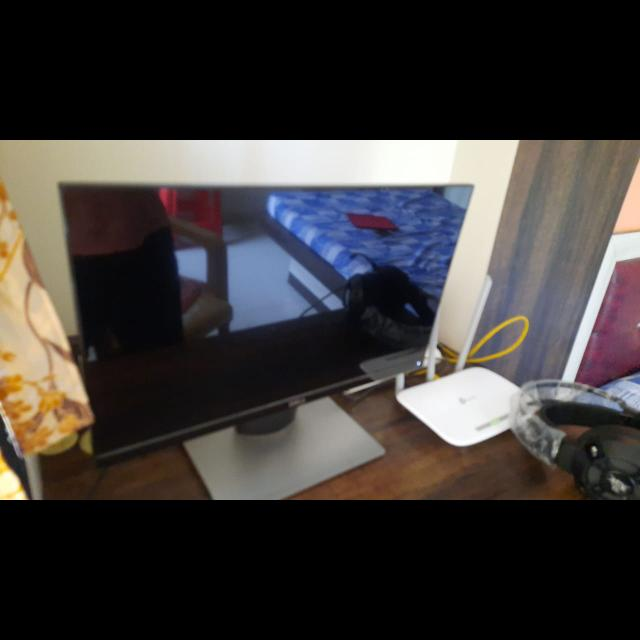Flat-Panel-Monitor: (54, 180, 473, 500)
